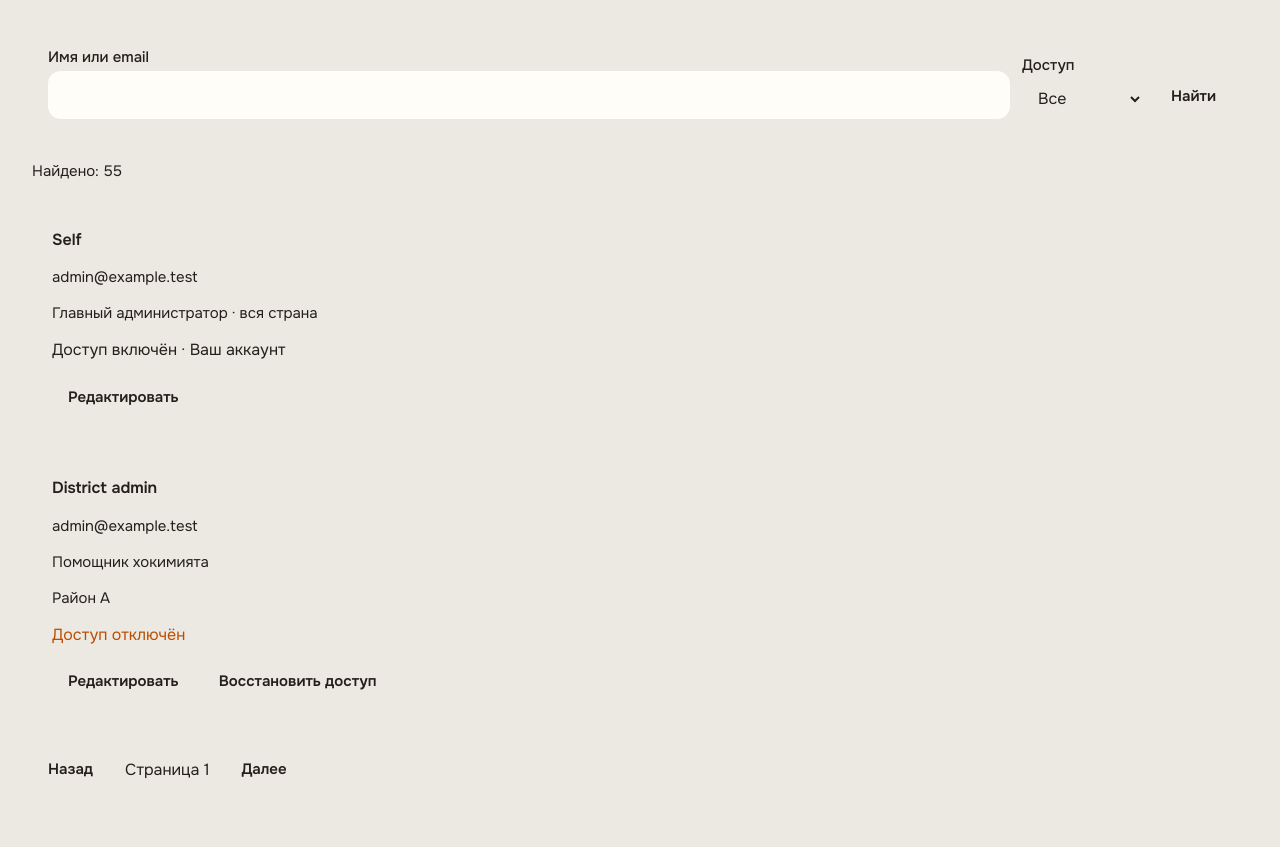
it: list filters reset paging and do not expose a self-disable action
This screenshot has width=1280, height=847.
(page scrolled)
Expected: the heading "Self" is shown, [52,229,82,250]
Expected: the button "Отключить доступ" is not shown
Click the button "Далее": (264, 770) [226,748,303,792]
(page scrolled)
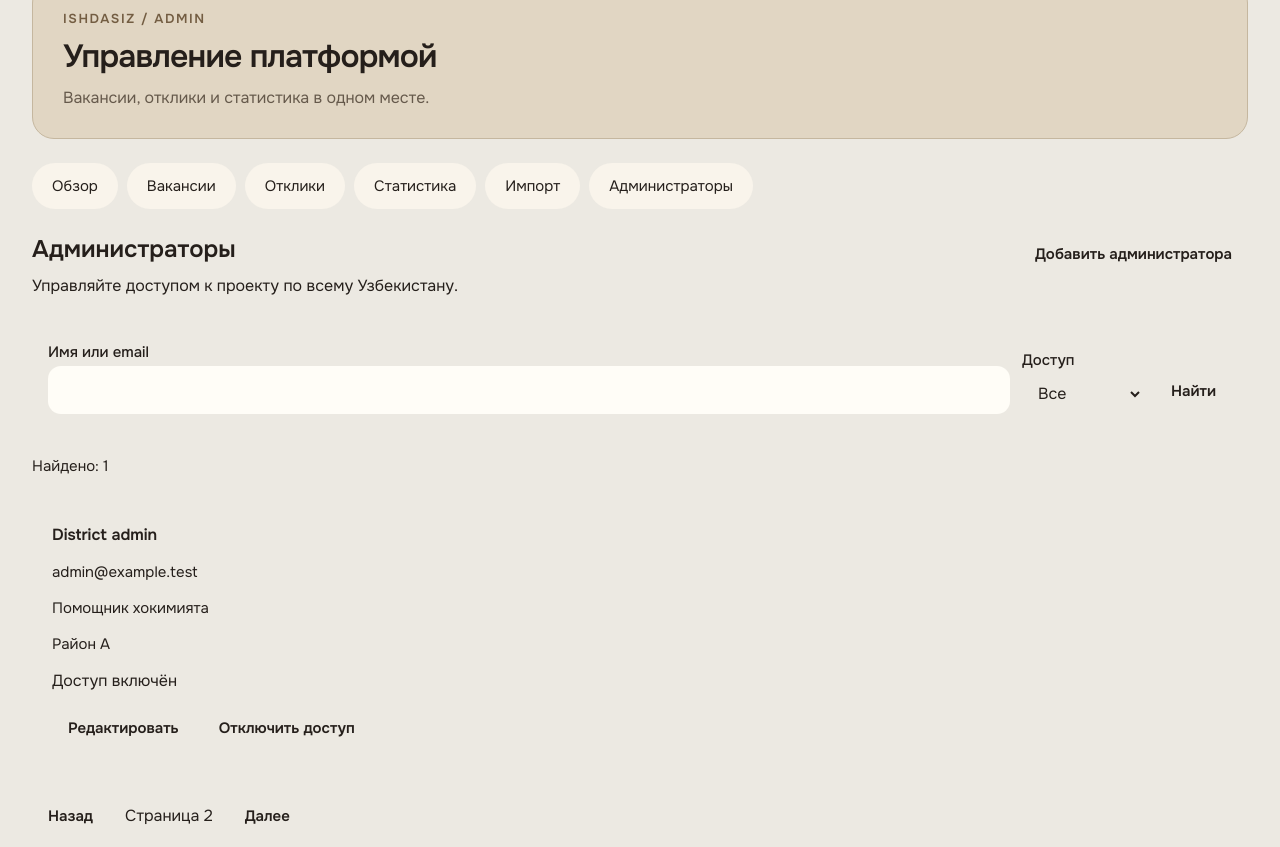
Now the text "Страница 2" is shown, box [125,803,213,830]
Select "Отключён" in the dropdown labelled "Доступ": (1082, 394) [1022,374,1143,414]
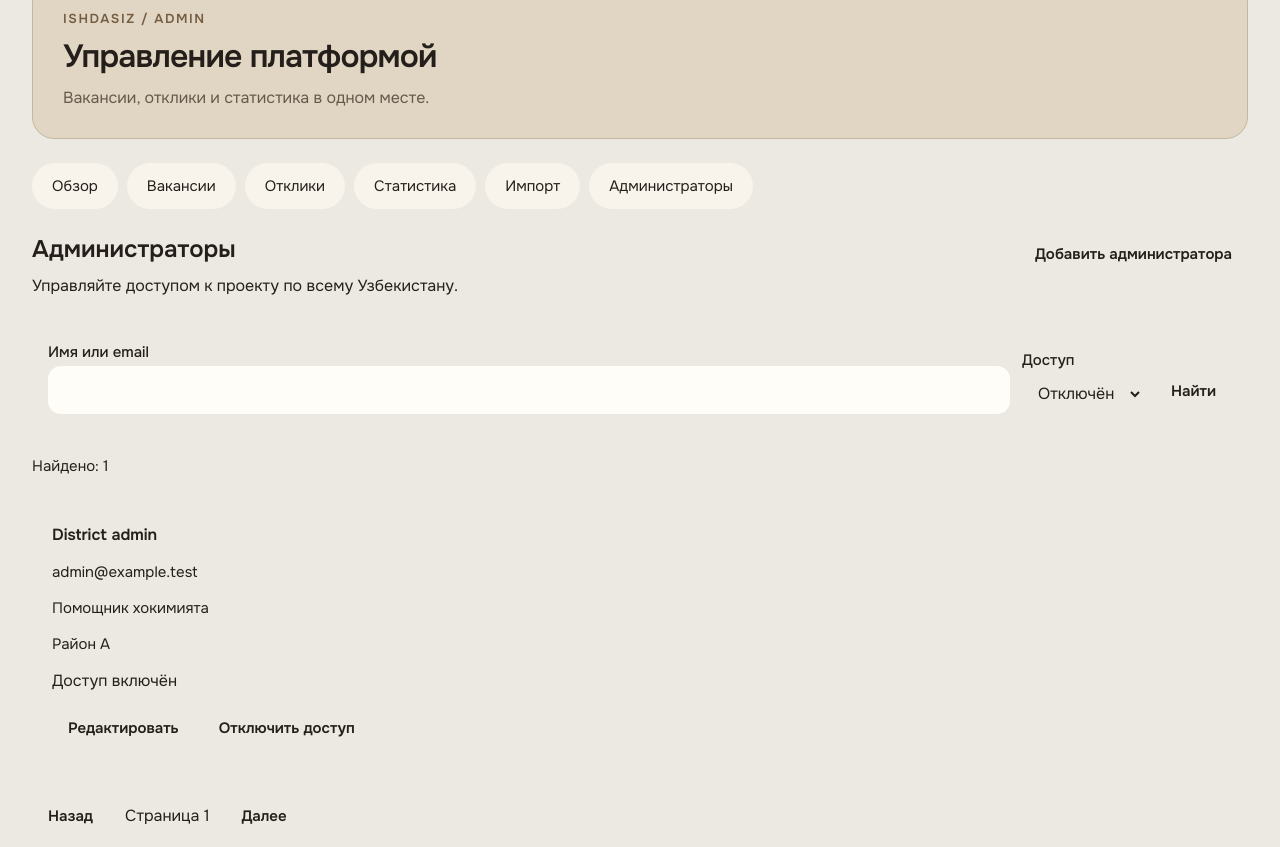
Now the text "Страница 1" is shown, box [125,803,209,830]
